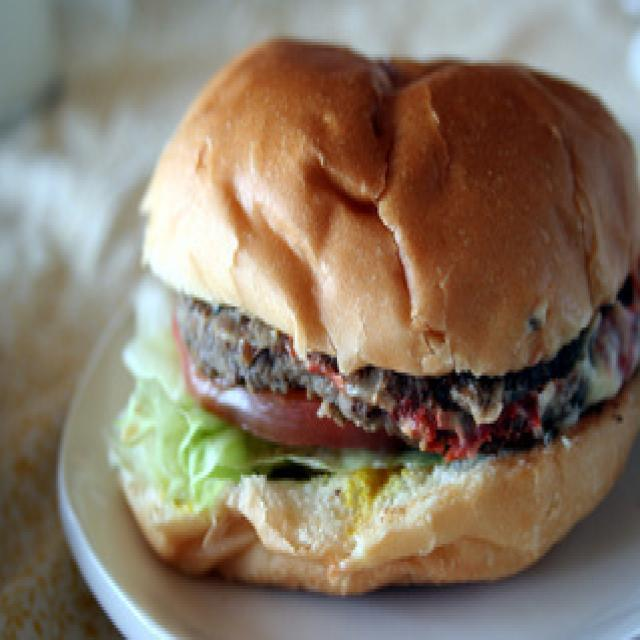Hamburger: (110, 24, 640, 619)
